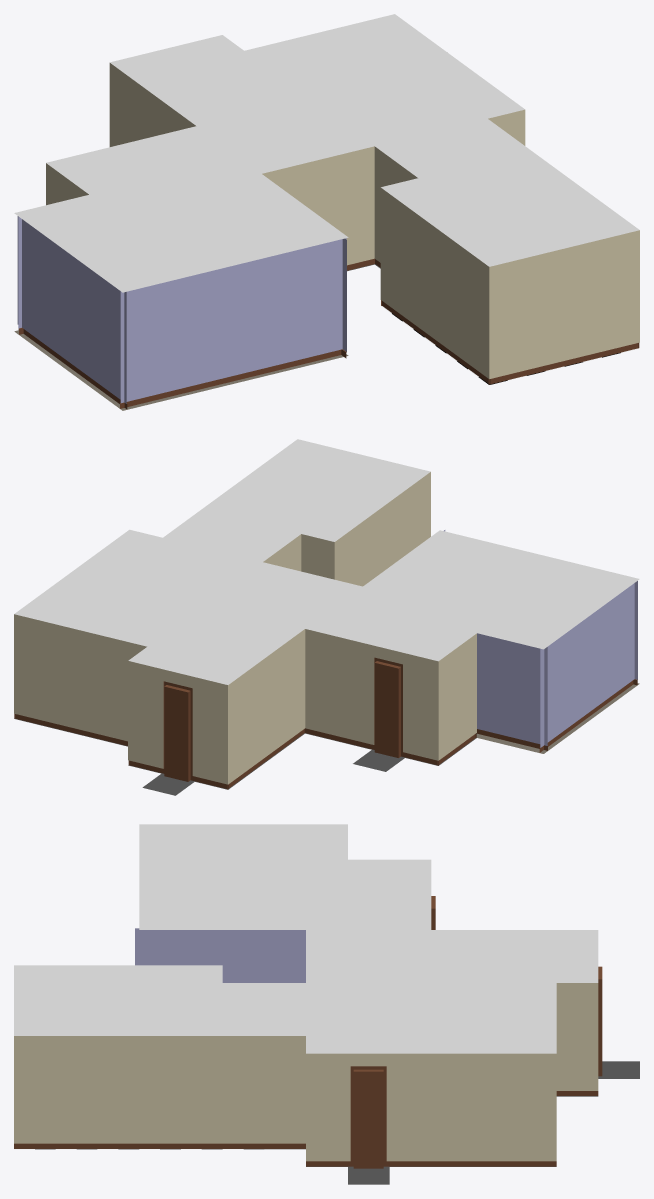
File: House_Modular.fbx
3 views of the same model, one above another, from view 1: azimuth 30°, elevation 25°; view 2: azimuth 150°, elevation 25°; view 3: azimuth 270°, elevation 25° (orthographic). The views are drawn at different scales.
Visible parts, largest first — view 1: House; view 2: House; view 3: House.
Boxes of the visible parts, box(x1,y1,x2,y2) form: House: box(14, 14, 639, 410); House: box(14, 439, 639, 795); House: box(14, 824, 639, 1184).
Bounding box in the file's own units: 1400 × 1500 × 300.
